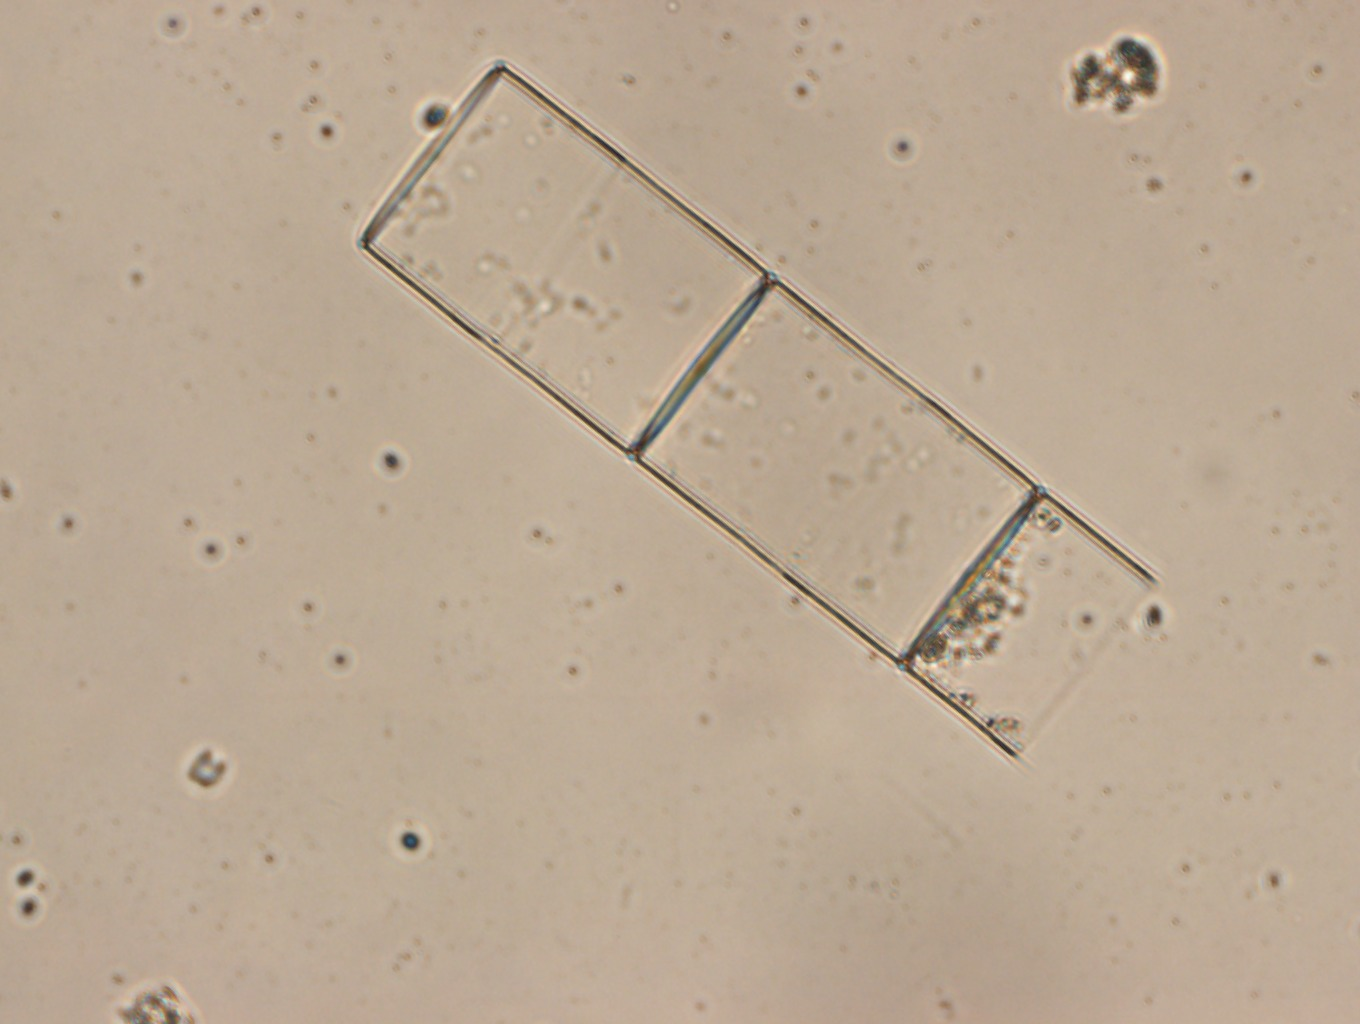guinardia flaccida: (360, 60, 1157, 752)
